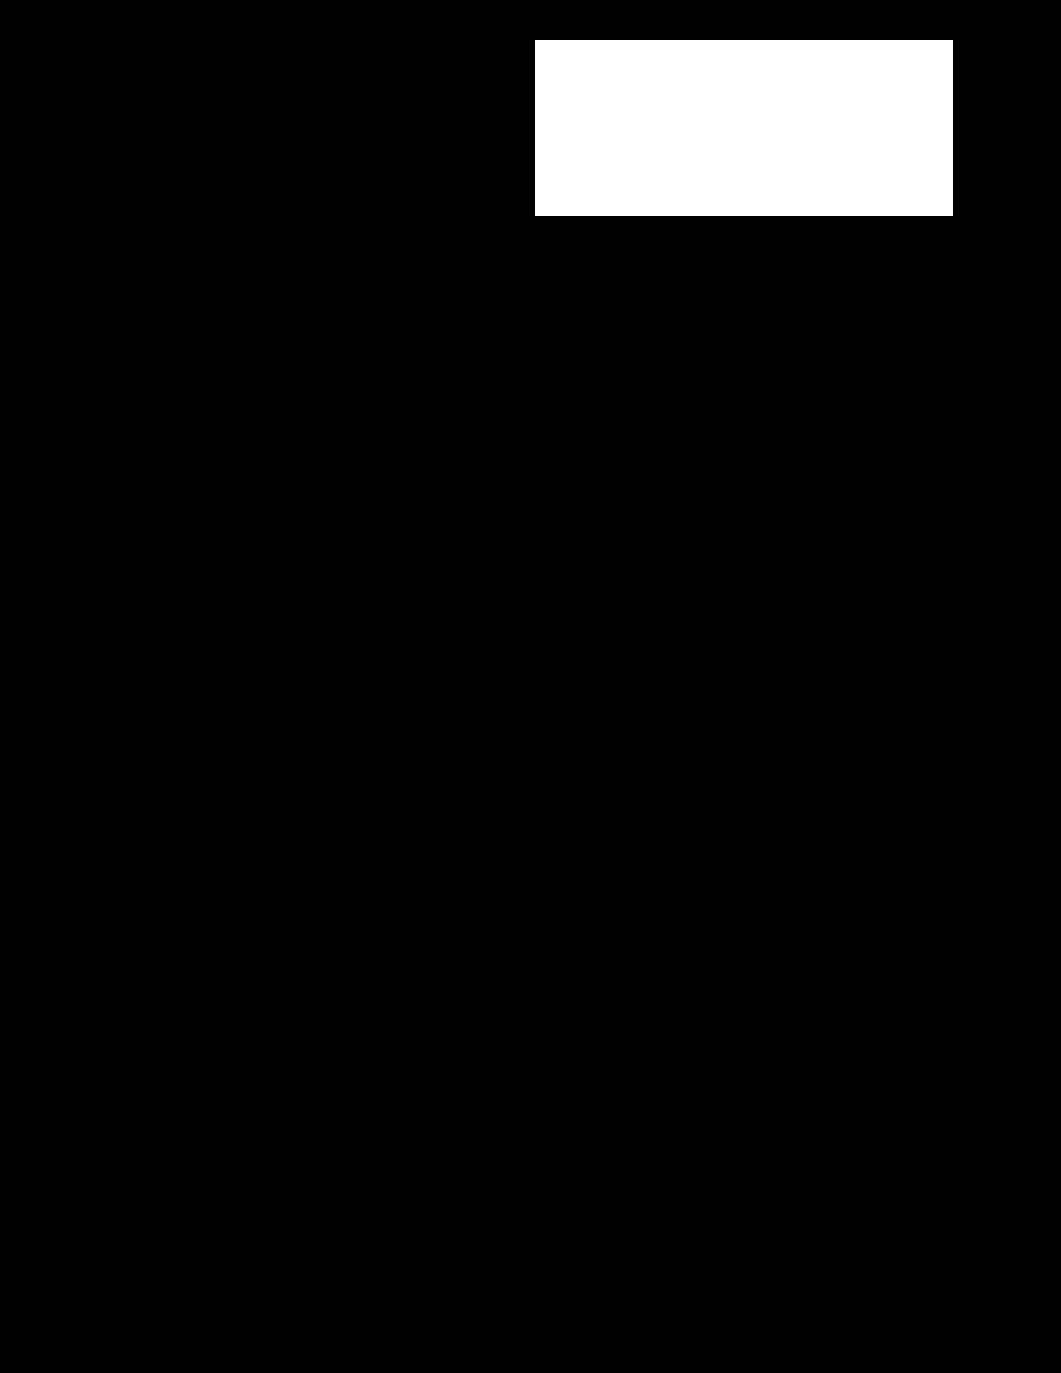table: (535, 40, 952, 215)
